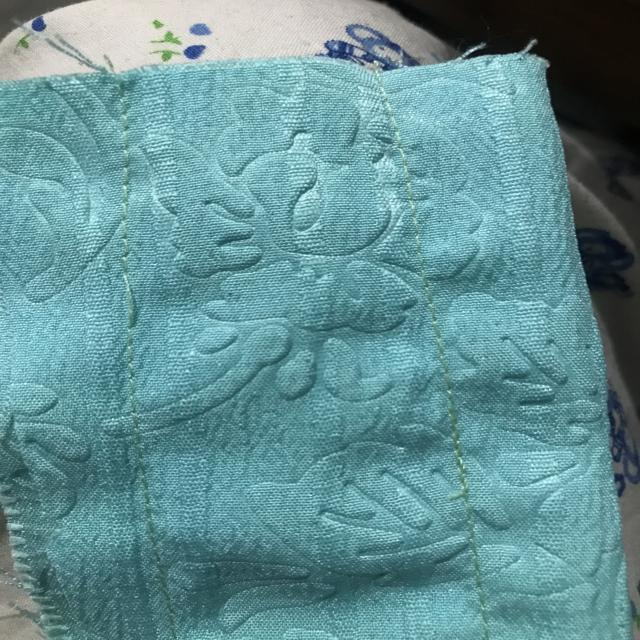good: (108, 140, 145, 222)
skip: (108, 244, 161, 348)
